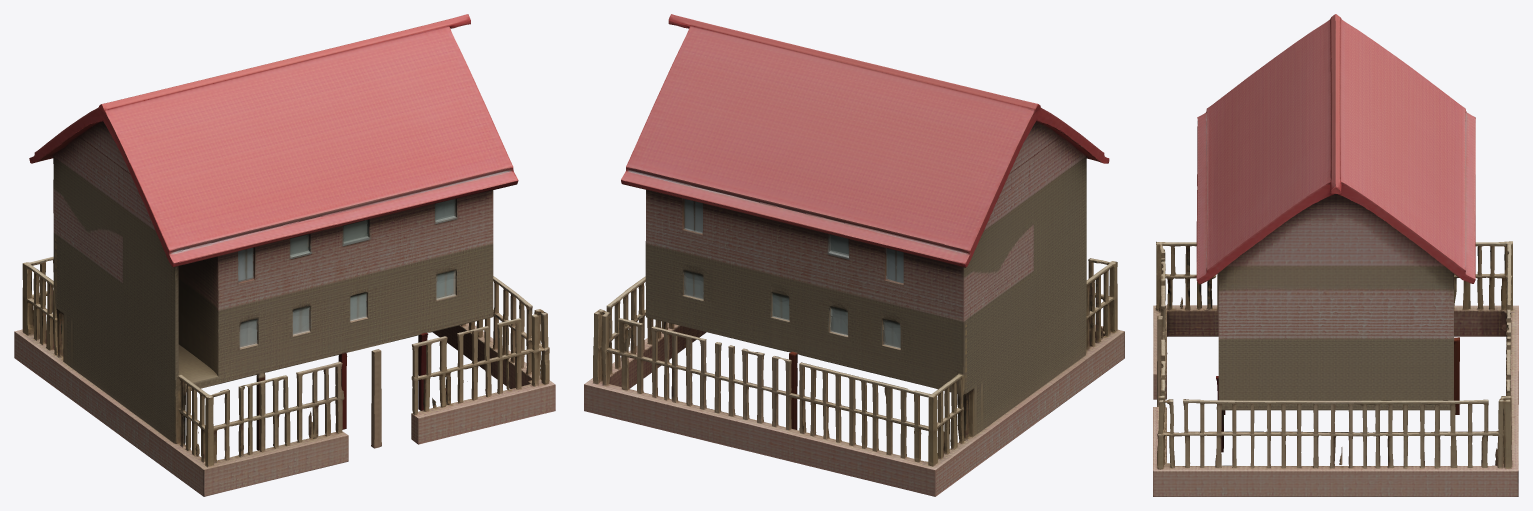
The model's file is house.glb.
3 views of the same model, side by side, from view 1: azimuth 30°, elevation 25°; view 2: azimuth 150°, elevation 25°; view 3: azimuth 270°, elevation 25° (orthographic). The views are drawn at different scales.
Parts seen in each view (by area): view 1: world; view 2: world; view 3: world.
Part boxes in pixels (x1,y1,x2,y2): world: [14, 14, 555, 496]; world: [584, 14, 1124, 496]; world: [1153, 14, 1518, 496].
Bounding box in the file's own units: 1 × 0.8527 × 0.8948.
1 material, 1 textured.
